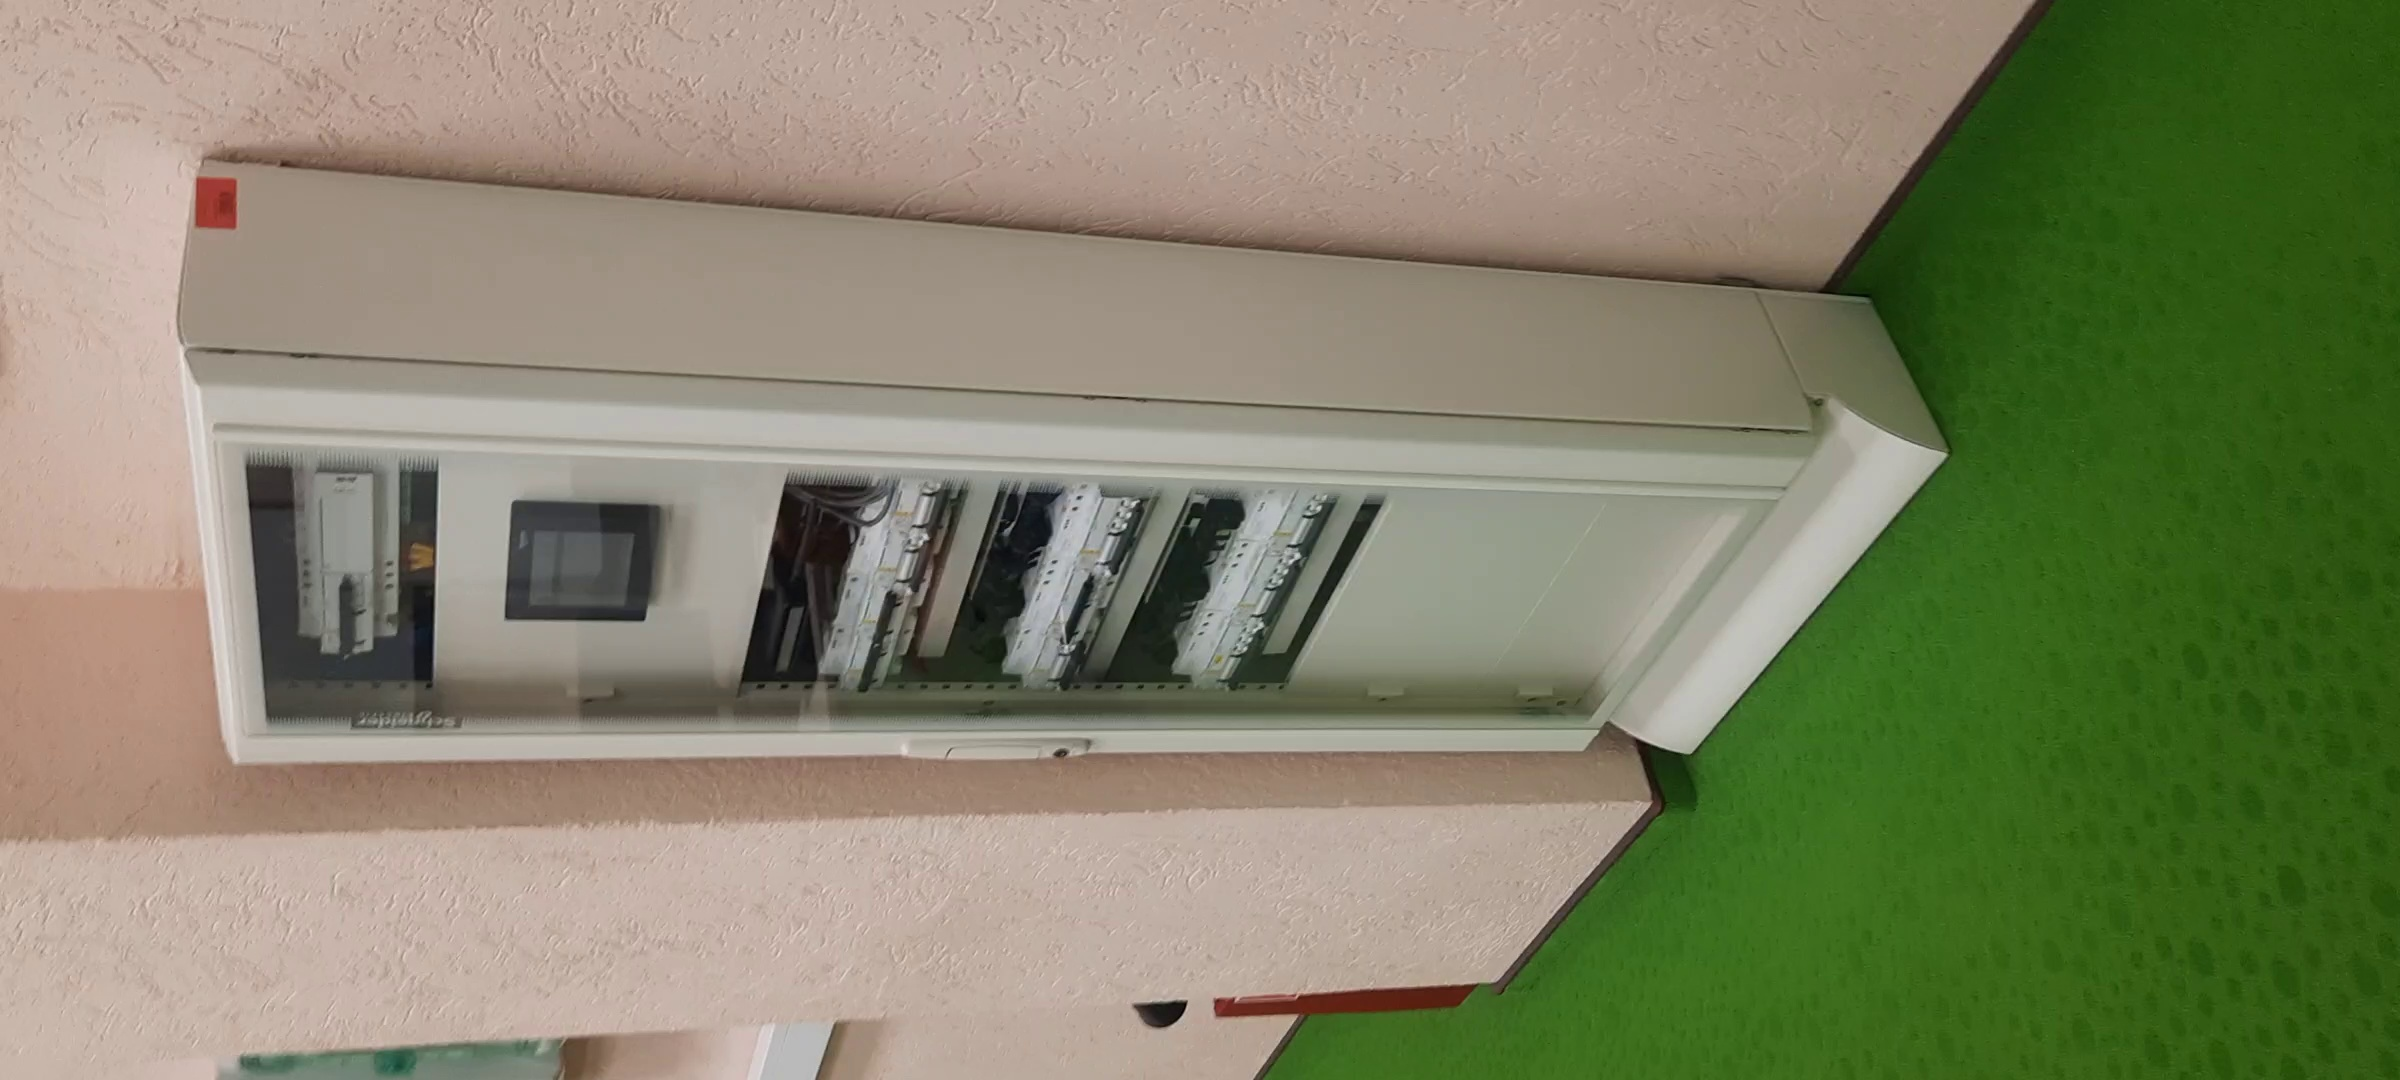smart_stand: (164, 184, 1919, 769)
